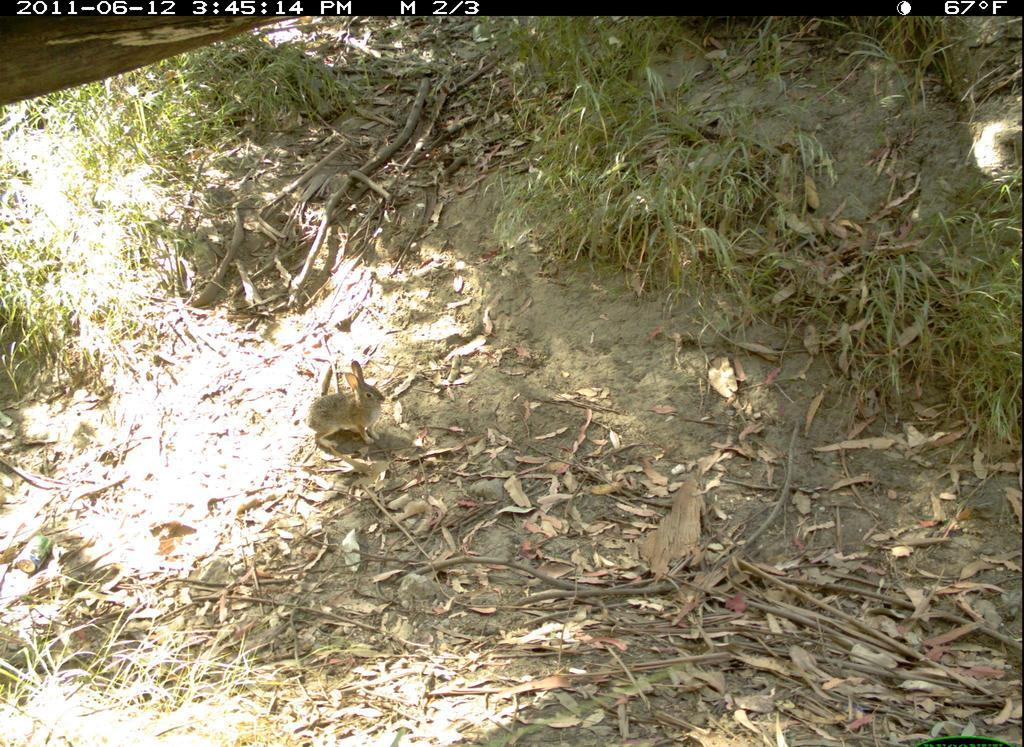rabbit: (303, 355, 401, 455)
